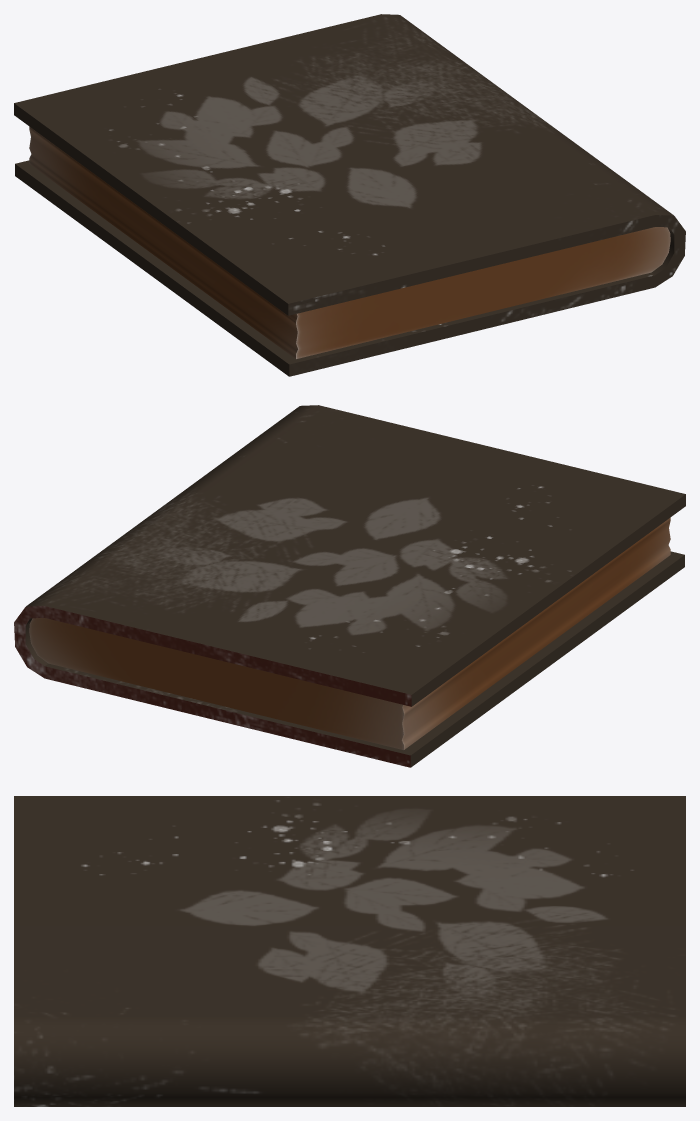
File: book1.fbx
3 renders of one model, top to bottom at view 1: azimuth 30°, elevation 25°; view 2: azimuth 150°, elevation 25°; view 3: azimuth 270°, elevation 25°, orthographic. The views are drawn at different scales.
Visible parts, largest first — view 1: pCube29, pCube30; view 2: pCube29, pCube30; view 3: pCube29.
Part boxes in pixels (left/top/right/bottom): pCube29: left=14, top=14, right=685, bottom=376; pCube30: left=29, top=126, right=670, bottom=358; pCube29: left=14, top=405, right=685, bottom=767; pCube30: left=29, top=517, right=670, bottom=749; pCube29: left=14, top=796, right=685, bottom=1106.
Size of the model in its own units: 12.51 by 2.2 by 14.93.
Materials: 1 (1 with a texture image).
